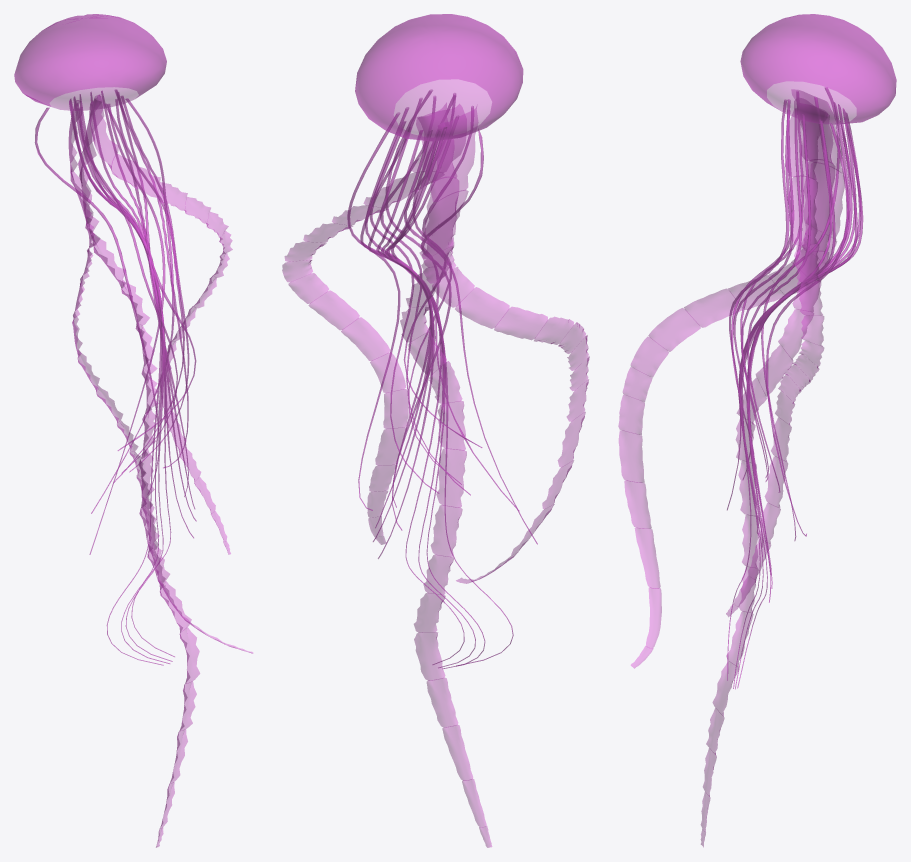
Rendered from jellyFish.gltf.
The picture shows the model from 3 angles, left to right: view 1: azimuth 30°, elevation 25°; view 2: azimuth 150°, elevation 25°; view 3: azimuth 270°, elevation 25°; orthographic projection. The views are drawn at different scales.
Parts seen in each view (by area): view 1: jellfish; view 2: jellfish; view 3: jellfish.
Boxes of the visible parts, x1,y1,x2,y2 form: jellfish: [14, 14, 252, 847]; jellfish: [282, 14, 589, 847]; jellfish: [618, 14, 896, 847].
Size of the model in its own units: 0.0307 by 0.1109 by 0.0342.
Materials: 1 (1 with a texture image).
